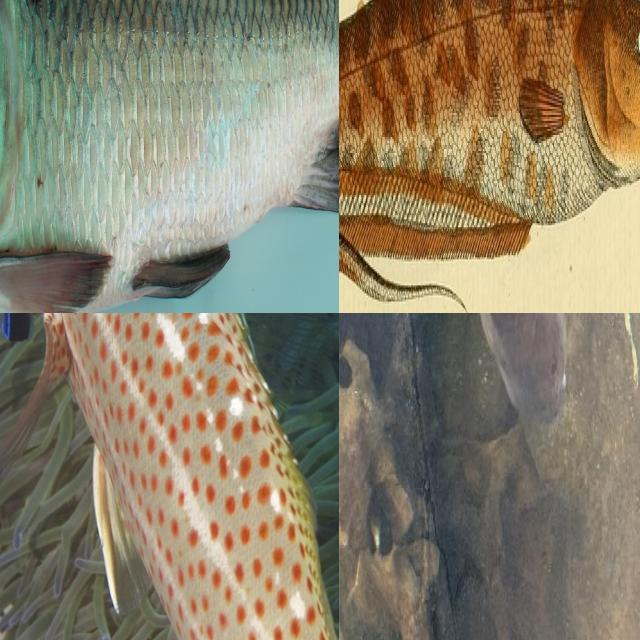fish: (0, 313, 339, 640), (0, 0, 339, 313), (339, 313, 568, 437)
